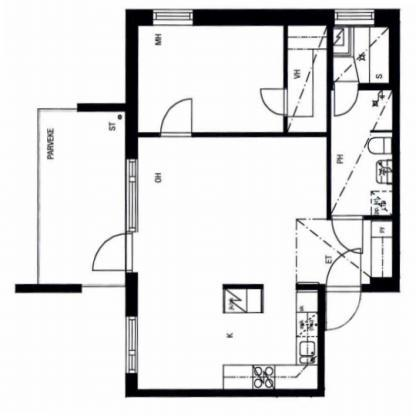bathroom: (330, 83, 398, 218)
door: (323, 247, 366, 335), (154, 93, 200, 146), (90, 232, 141, 276), (327, 213, 371, 254), (330, 77, 364, 119), (255, 86, 290, 121)
perimeter: (126, 10, 401, 397)
window: (121, 155, 142, 238), (120, 313, 144, 381), (331, 4, 378, 30), (151, 5, 197, 30)
